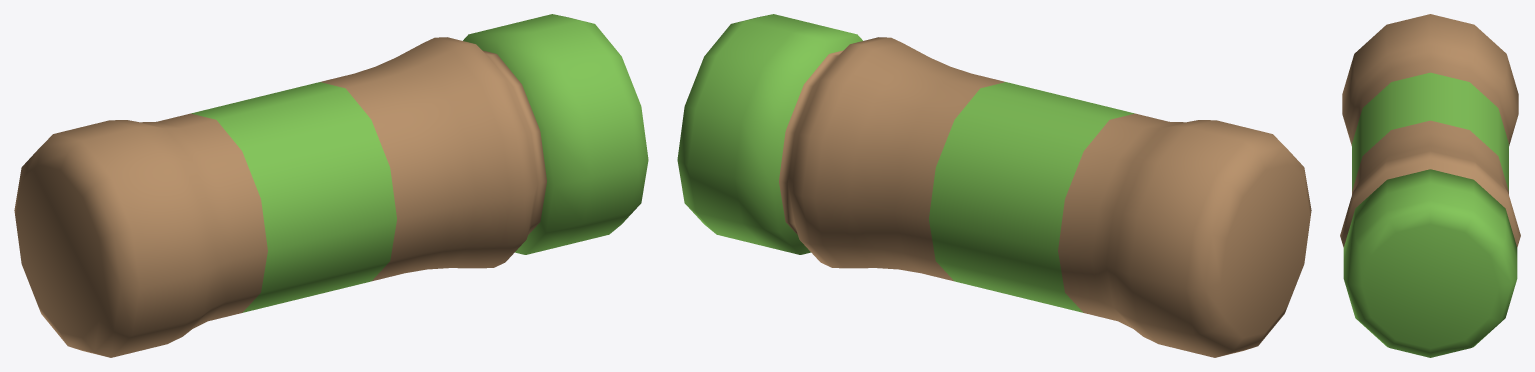
Rendered from model_gengibremoido_01.fbx.
3 renders of one model, left to right at view 1: azimuth 30°, elevation 25°; view 2: azimuth 150°, elevation 25°; view 3: azimuth 270°, elevation 25°, orthographic. The views are drawn at different scales.
Visible parts, largest first — view 1: Potinho de gengibre.003; view 2: Potinho de gengibre.003; view 3: Potinho de gengibre.003.
Boxes of the visible parts, bbox=[...] form: Potinho de gengibre.003: bbox=[14, 14, 648, 357]; Potinho de gengibre.003: bbox=[677, 14, 1311, 357]; Potinho de gengibre.003: bbox=[1340, 14, 1520, 357].
Size of the model in its own units: 0.9171 by 0.3494 by 0.3494.
